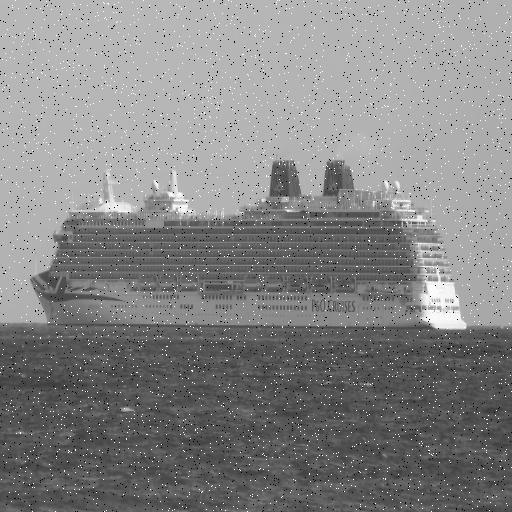cruises: (29, 157, 471, 338)
